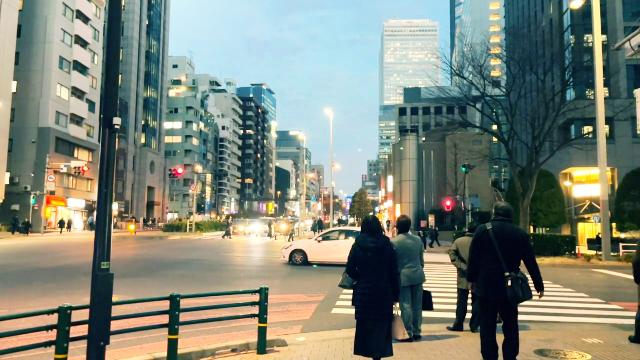berdiri: (468, 200, 542, 360), (340, 211, 400, 360), (384, 210, 432, 346), (450, 211, 490, 335)
